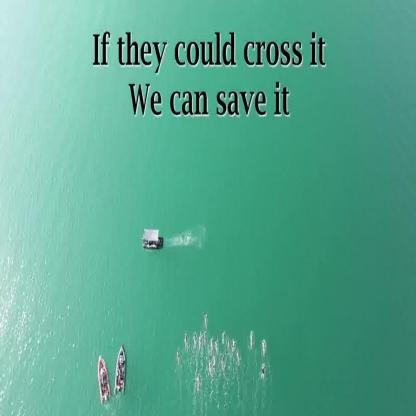Boat: (96, 357, 112, 402), (115, 350, 130, 395)
